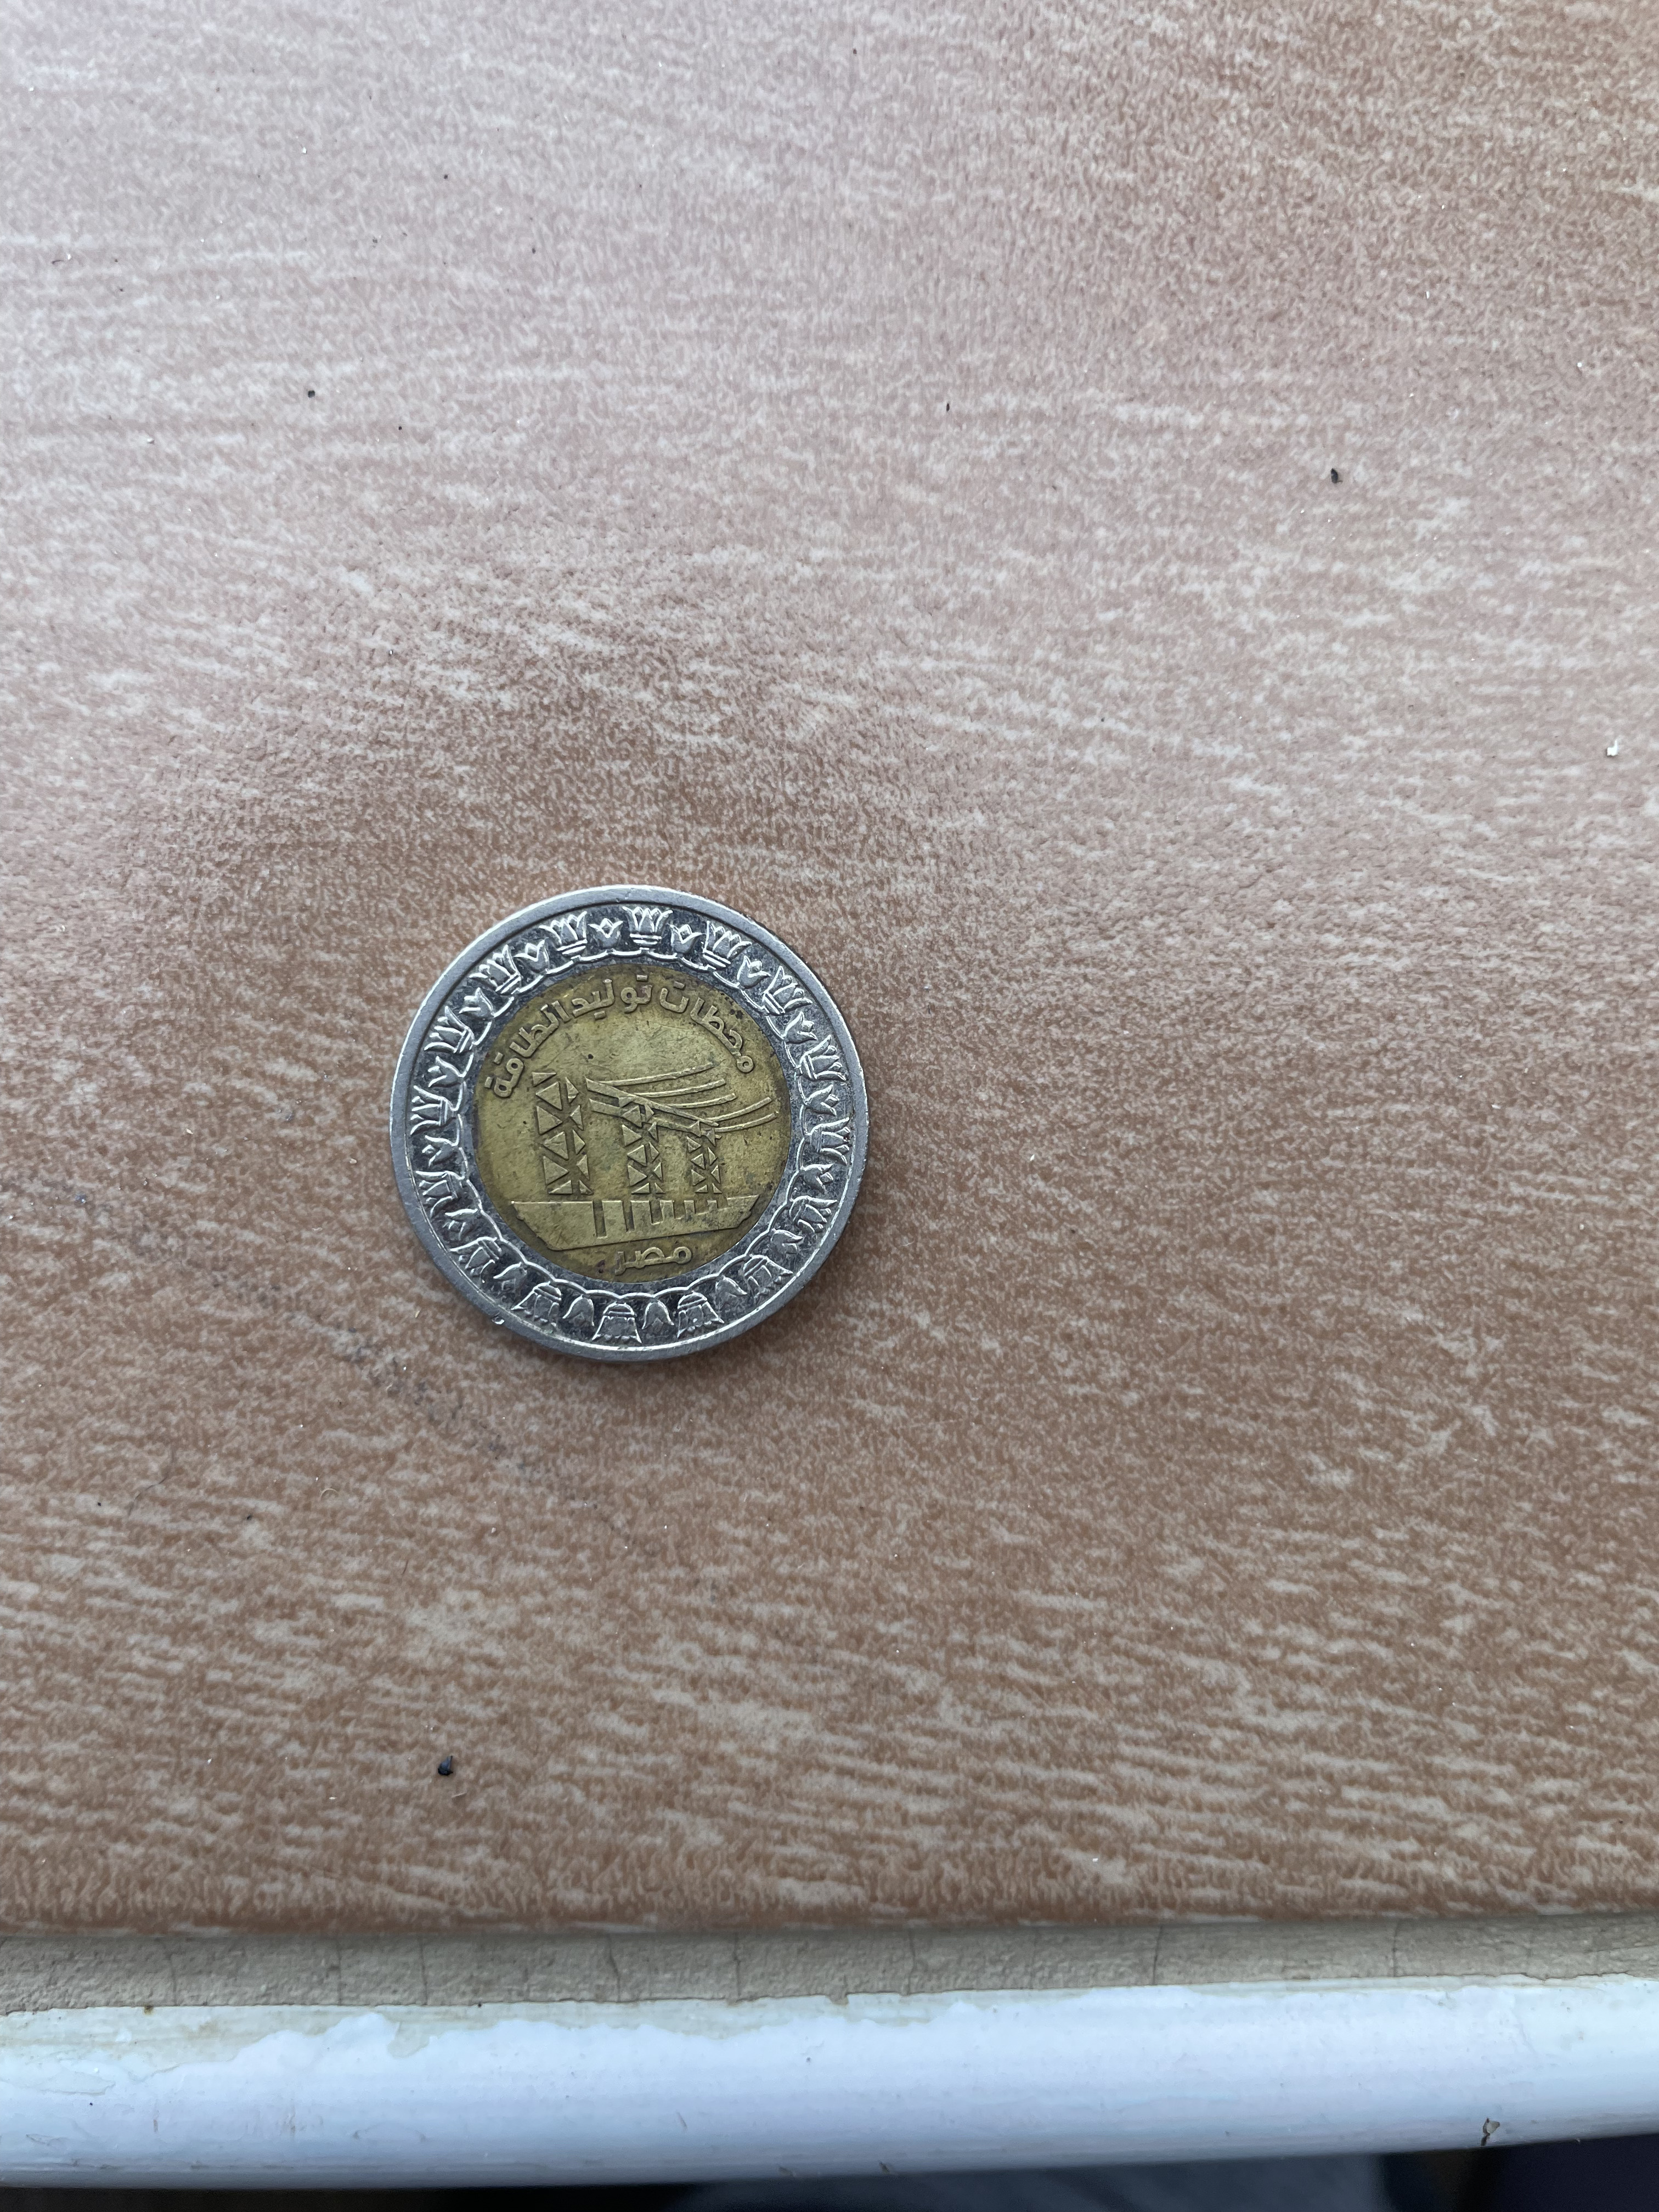one: (385, 873, 882, 1378)
